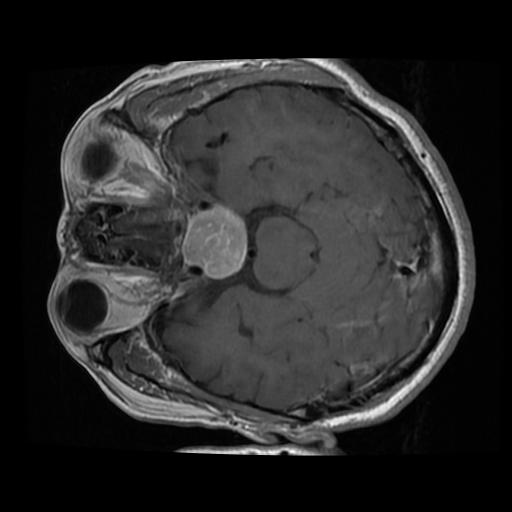pituitary tumour: (181, 204, 248, 279)
